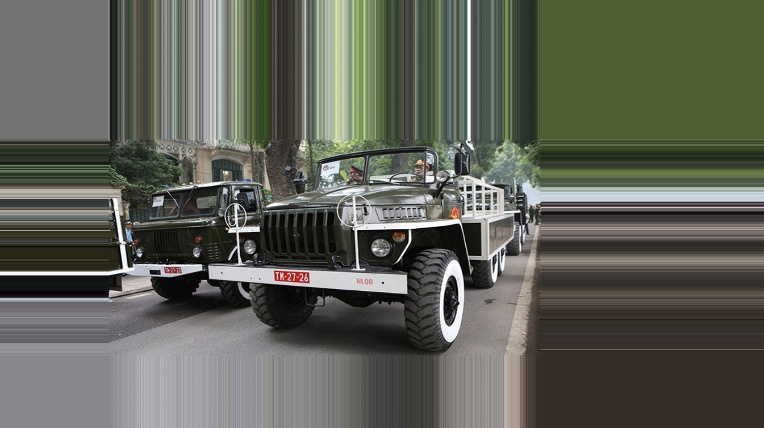plate: (272, 266, 312, 286), (162, 263, 184, 276)
